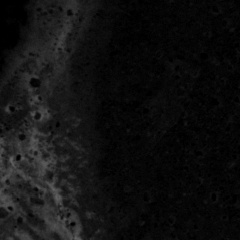Vegetation: (28, 134, 71, 240), (1, 135, 28, 237), (33, 1, 70, 70), (32, 96, 48, 125)
